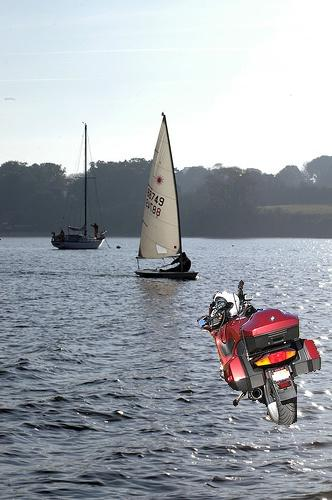tampered: (198, 281, 321, 425)
